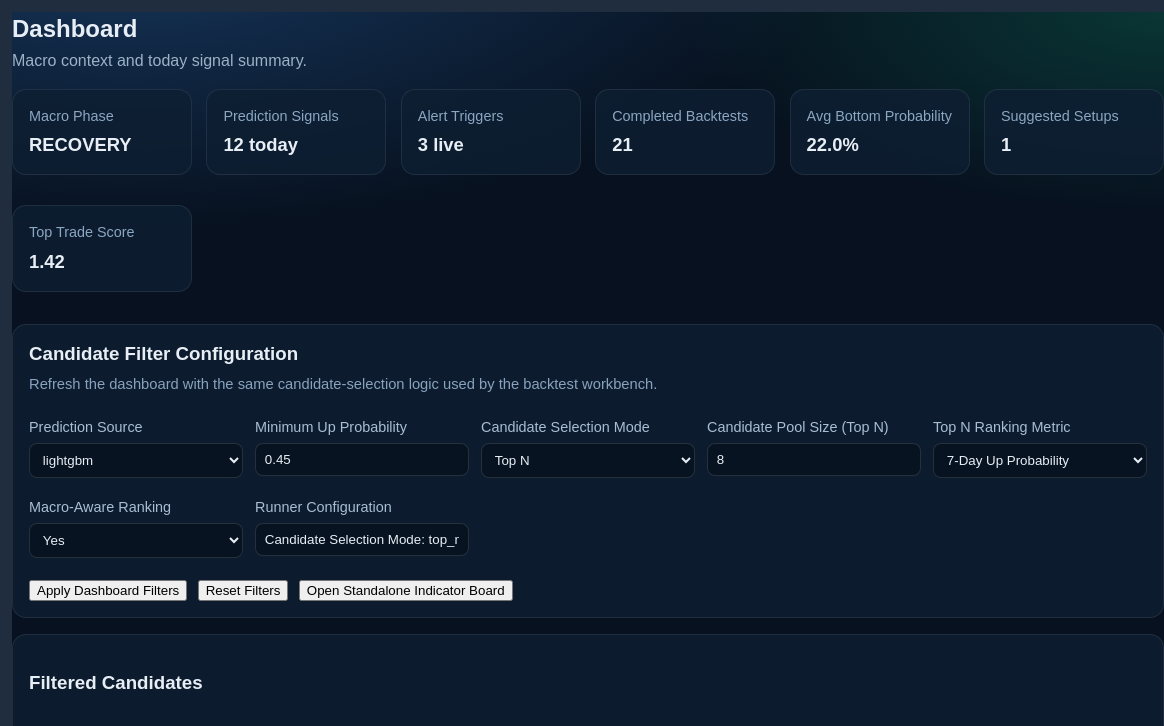
DashboardPage › applies trade-score mode filters from the dashboard form
This screenshot has width=1164, height=726.
Later steps or results of the test are not shown.
Select "Trade Score Filter" in the dropdown labelled "Candidate Selection Mode" at (588, 460), box [481, 443, 695, 478]
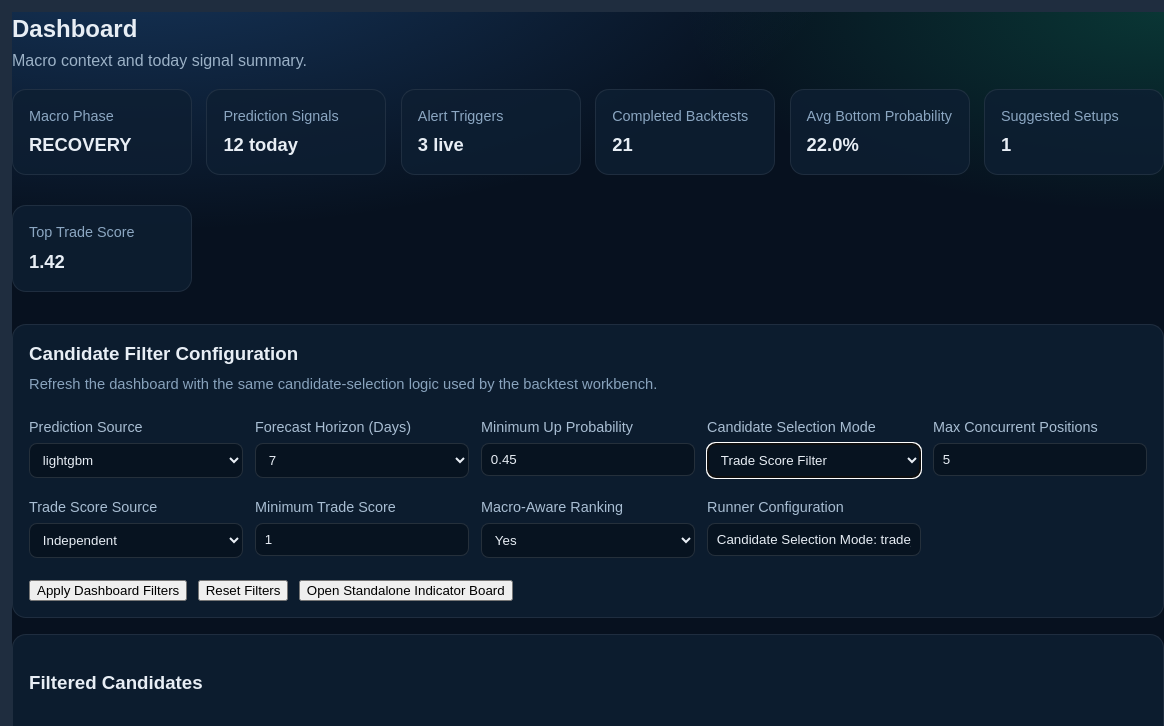
Expected: the number field labelled "Max Concurrent Positions" is shown, [933, 443, 1147, 476]
Now the label labelled "Candidate Pool Size (Top N)" is gone
